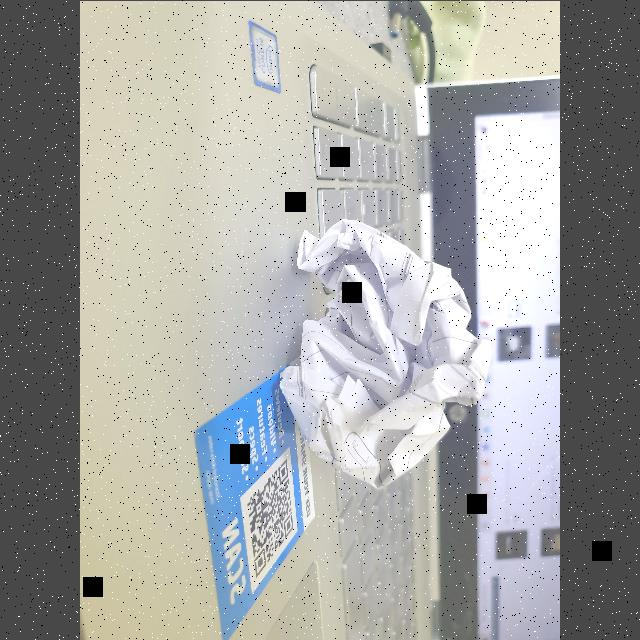scrap_paper: (256, 214, 496, 486)
